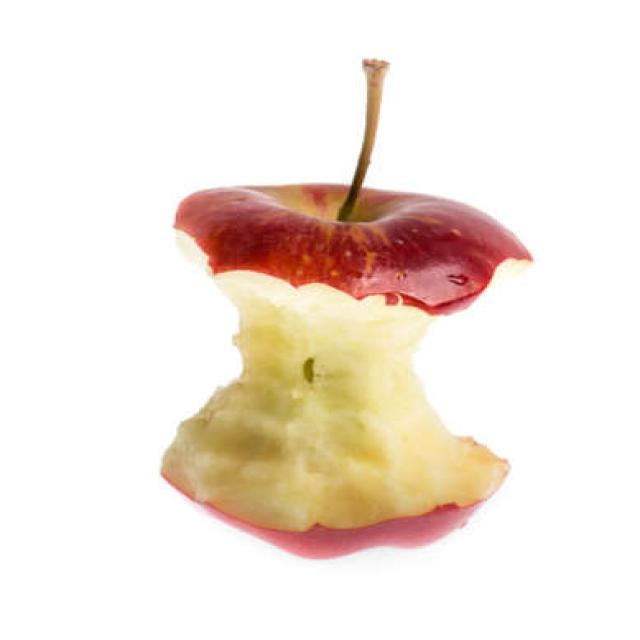apple_fruit: (147, 104, 523, 582)
